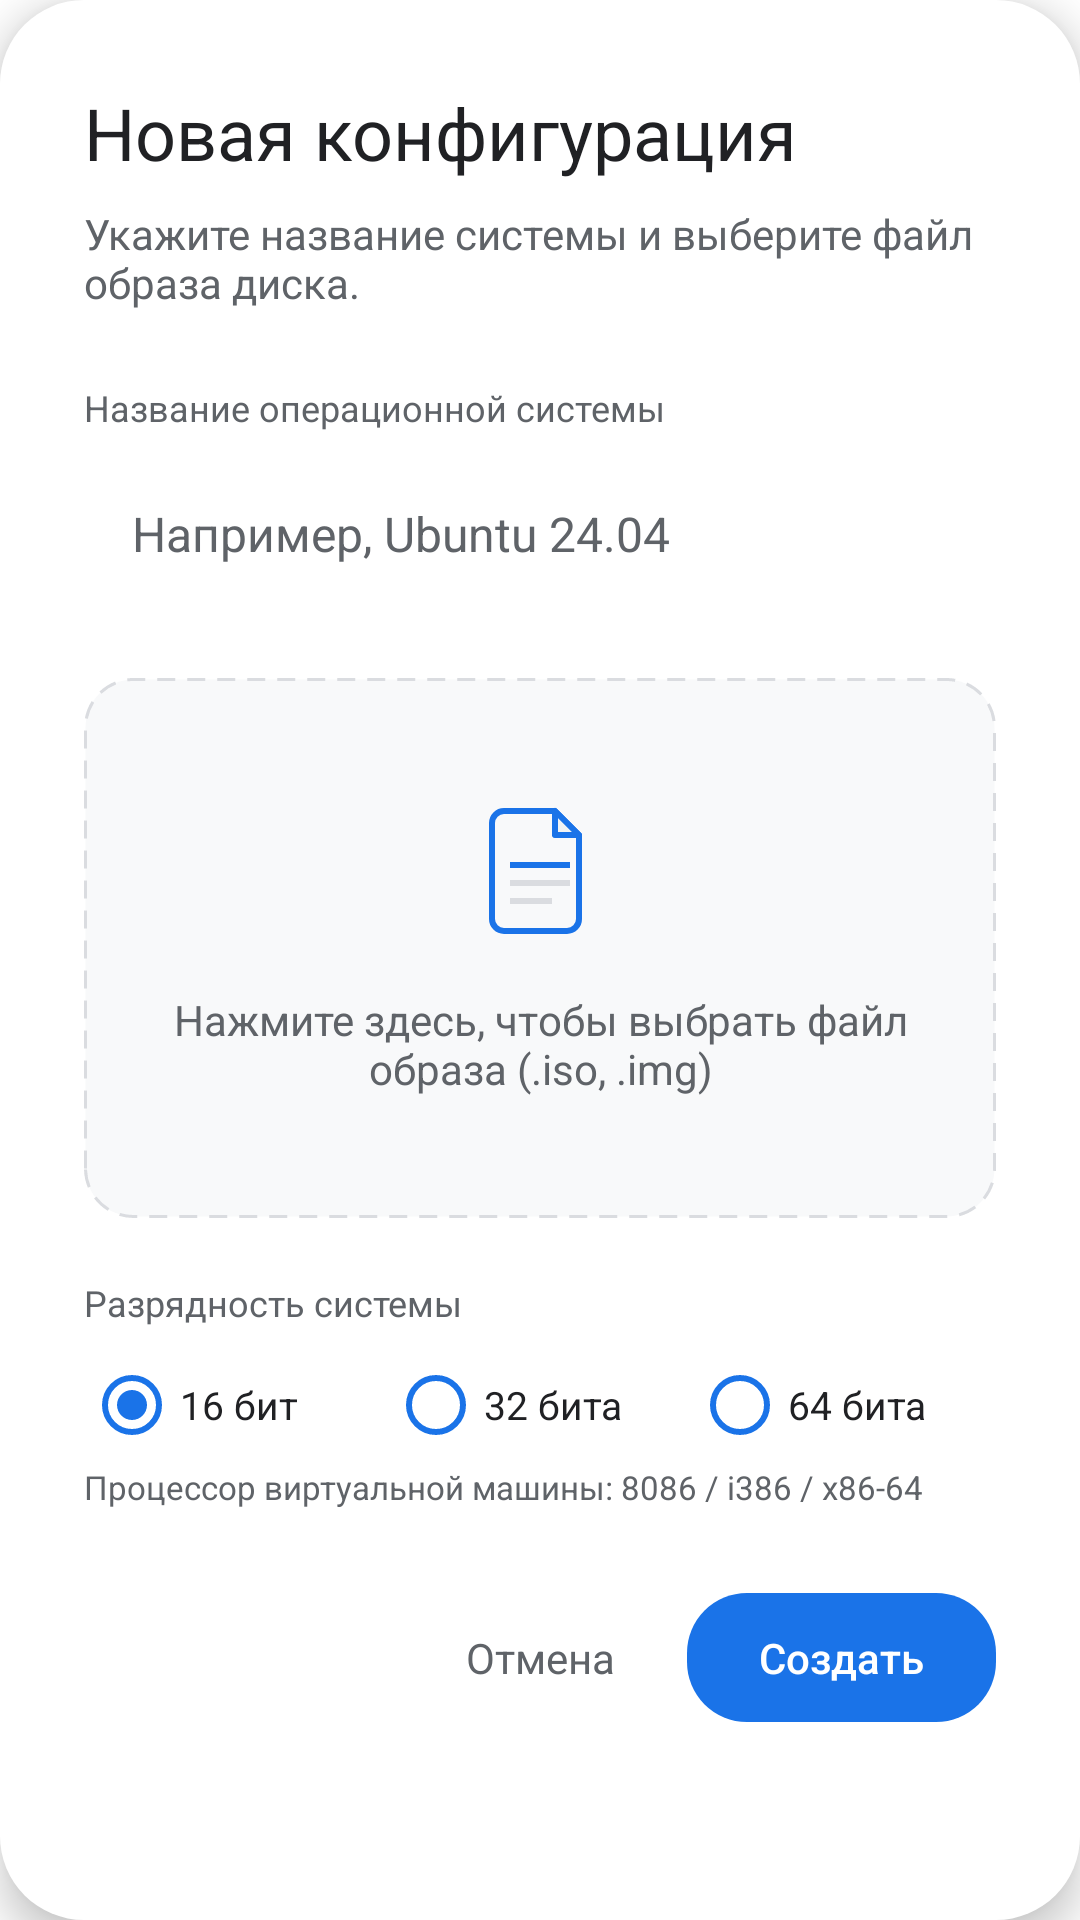

Icon click points for this 1080w x 1920h phone screenshot, format (x,y):
Значок файла образа: (535,871)
